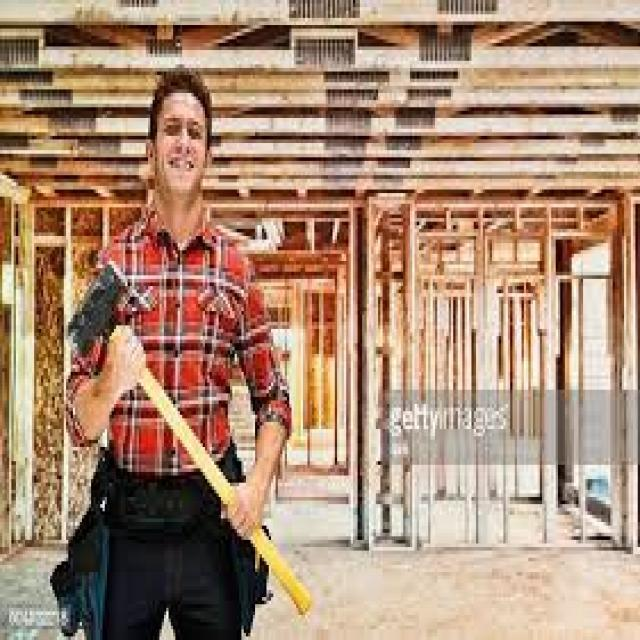hammer: (64, 255, 316, 620)
